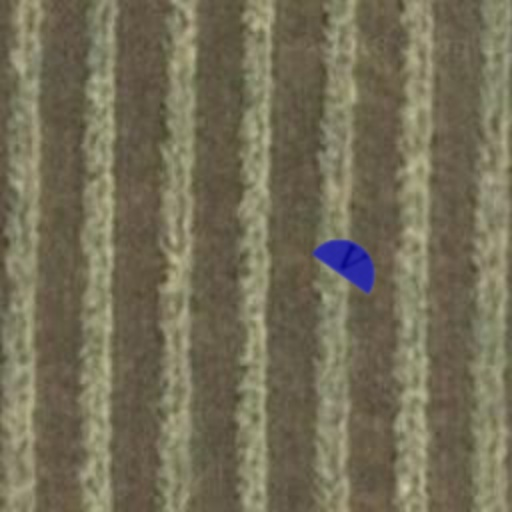semicircle: (300, 210, 400, 310)
